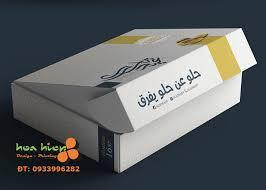box: (12, 27, 257, 174)
